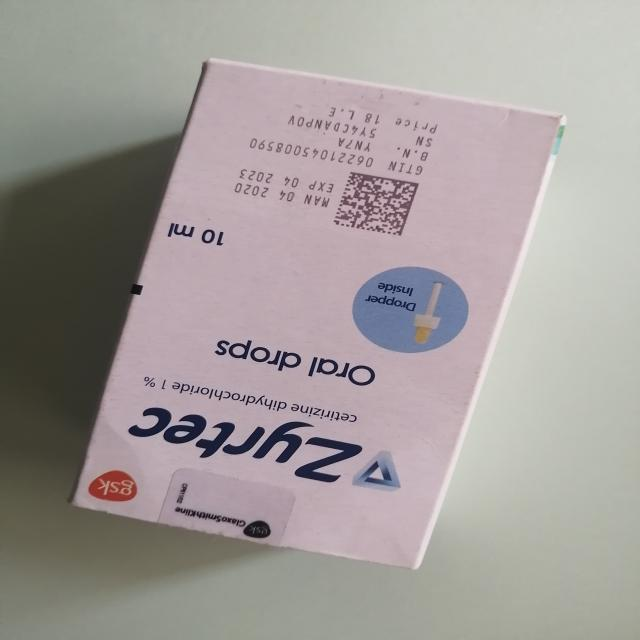Medicine: (66, 59, 568, 572)
